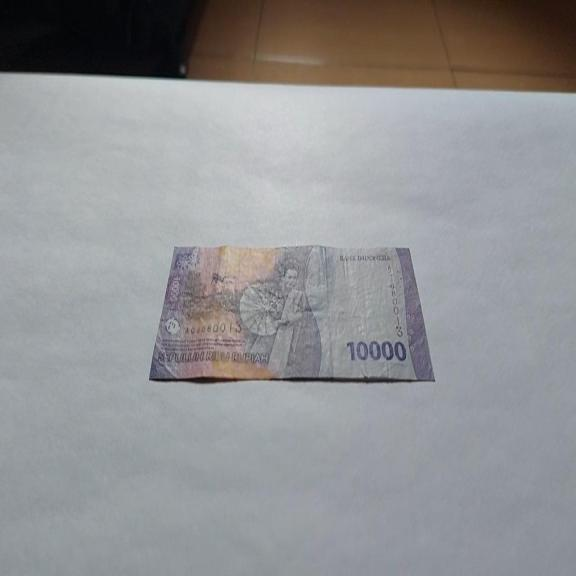Kertas: (148, 242, 436, 385)
